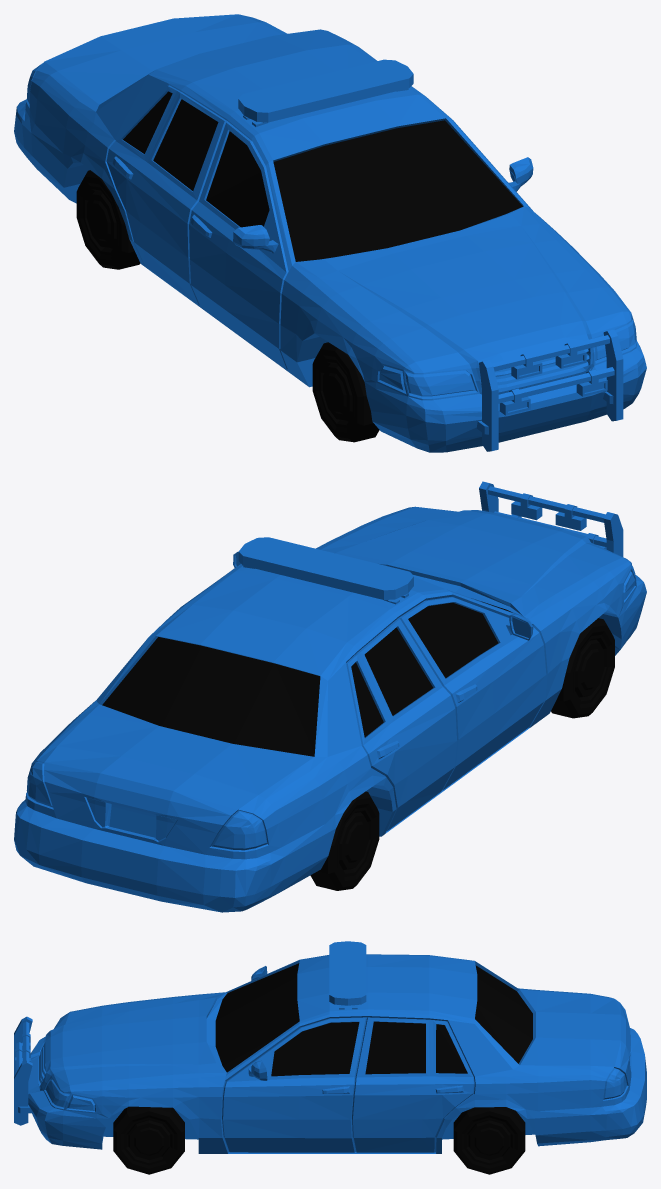
The model's file is SM_patrol.fbx.
3 renders of one model, top to bottom at view 1: azimuth 30°, elevation 25°; view 2: azimuth 150°, elevation 25°; view 3: azimuth 270°, elevation 25°, orthographic. The views are drawn at different scales.
Visible parts, largest first — view 1: Symmetry_5, Cylinder_7, Cylinder_6; view 2: Symmetry_5, Cylinder_7, Cylinder_6; view 3: Symmetry_5, Cylinder, Cylinder_6.
Part boxes in pixels (<box>): Symmetry_5: <box>14,14,646,452</box>; Cylinder_7: <box>312,342,379,442</box>; Cylinder_6: <box>76,170,140,269</box>; Symmetry_5: <box>14,481,646,912</box>; Cylinder_7: <box>551,618,614,718</box>; Cylinder_6: <box>310,791,379,890</box>; Symmetry_5: <box>14,941,646,1153</box>; Cylinder: <box>113,1106,184,1174</box>; Cylinder_6: <box>453,1107,525,1174</box>.
Bounding box in the file's own units: 197 × 141 × 503.
